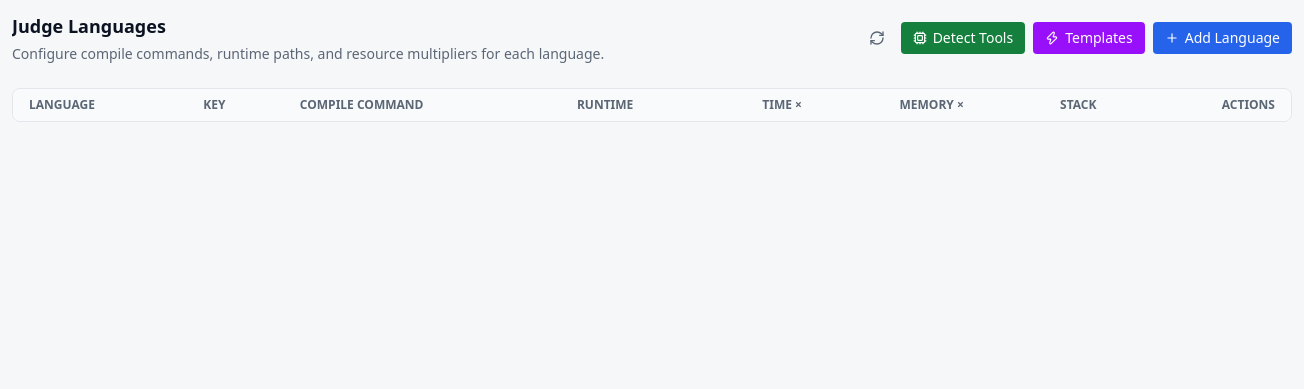
Test case: Detect lists the tools the judge reported
Check: the heading "Judge Languages" is shown, box 12,14 -> 166,38
Click the button "Detect Tools" at coordinates (963, 38), box 901,22 -> 1025,54
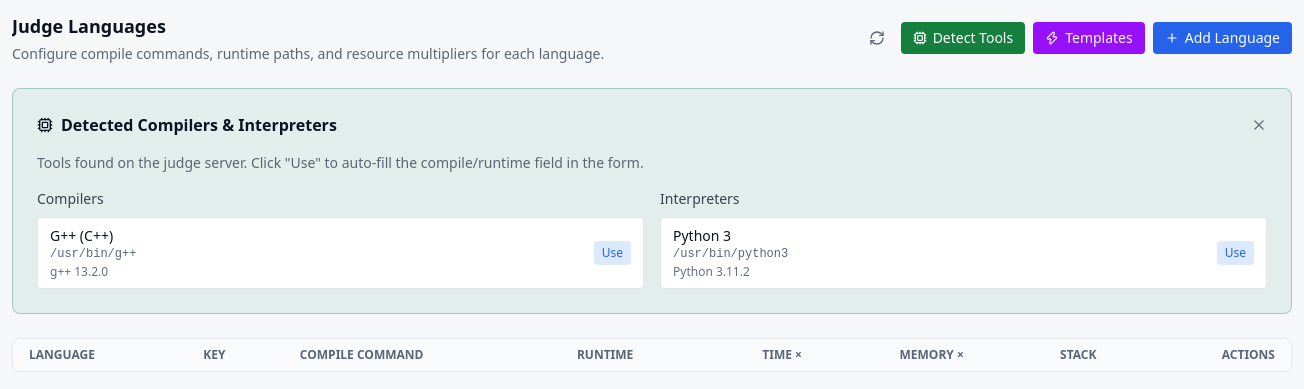
Check: the text "G++ (C++)" is shown, box 50,226 -> 113,245
Check: the text "Python 3" is shown, box 673,226 -> 731,245
Check: the text "g++ 13.2.0" is shown, box 50,263 -> 108,280
